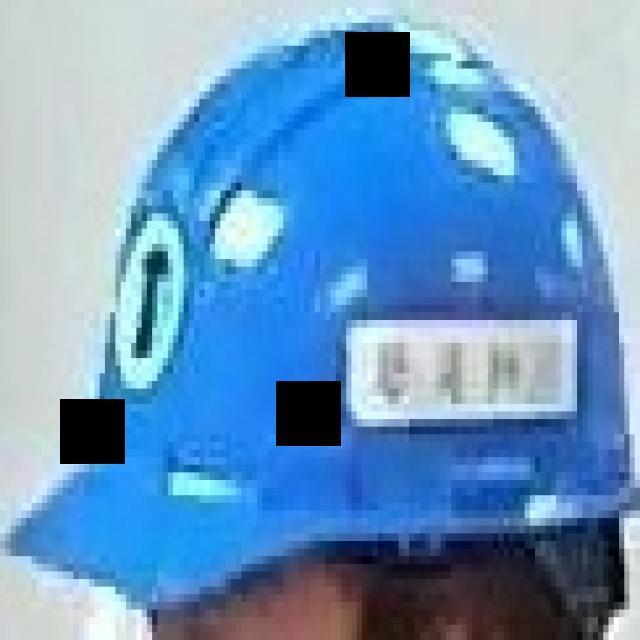blue helmet: (9, 2, 640, 624)
